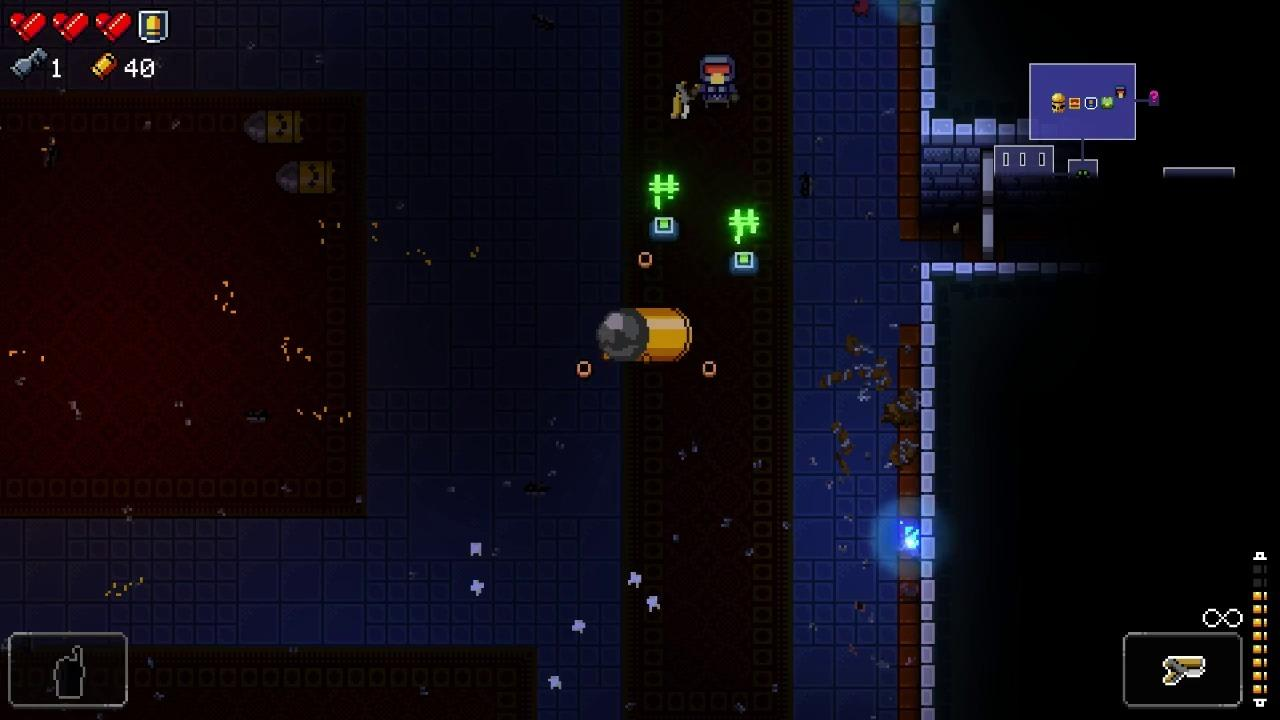dead_boss_shades: (598, 308, 691, 364)
dead_bullet_kin: (243, 110, 301, 147), (274, 160, 337, 194)
player: (696, 54, 735, 106)
unlocked_door: (980, 147, 994, 262)
